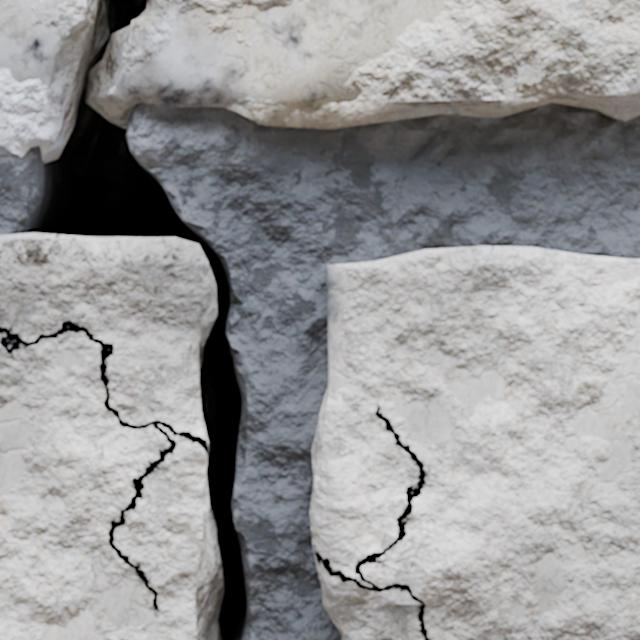broken_brick: (108, 0, 639, 128), (0, 0, 85, 156)
crack: (0, 0, 249, 639), (310, 246, 639, 639)
